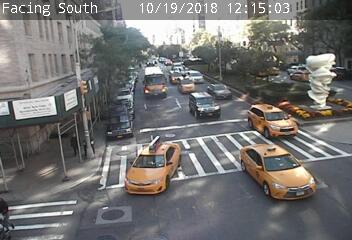carw: (241, 144, 316, 200), (123, 141, 181, 195), (246, 103, 299, 138), (189, 92, 221, 117), (143, 66, 168, 96), (207, 83, 233, 99), (178, 78, 197, 93), (187, 70, 204, 83)
